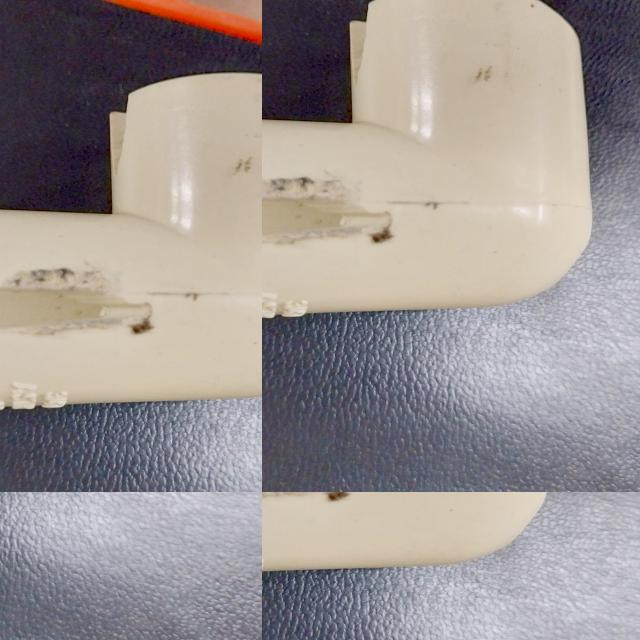L Joint: (271, 0, 600, 199), (262, 492, 550, 577)
